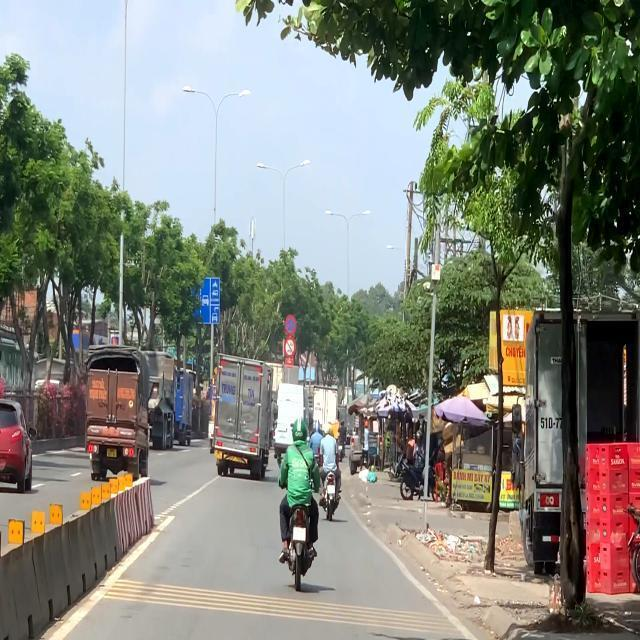130-cam-dung-va-do-xe: (284, 314, 298, 336)
